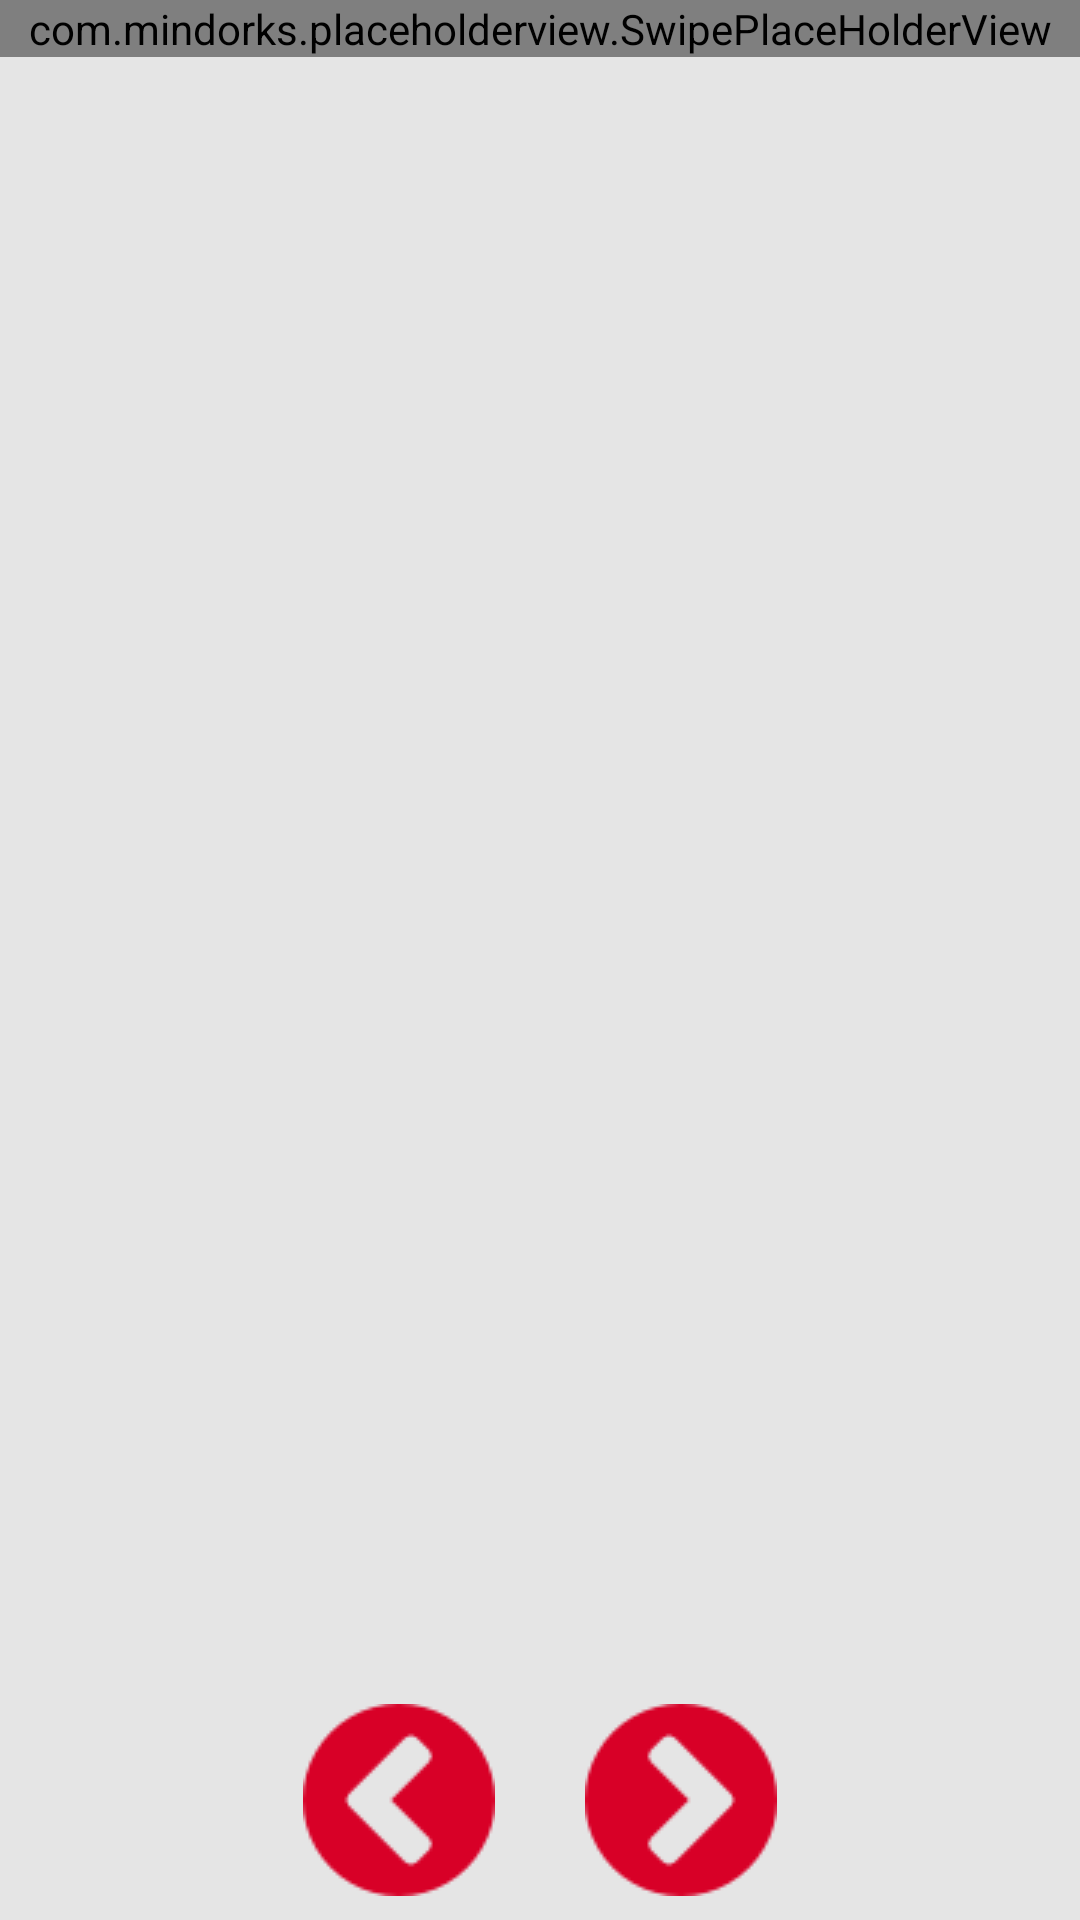

Icons on this 1080*1920 Android screen, each with the point to tap as point (x, y):
chevron sign left: point (399, 1800)
chevron sign to right: point (681, 1800)
